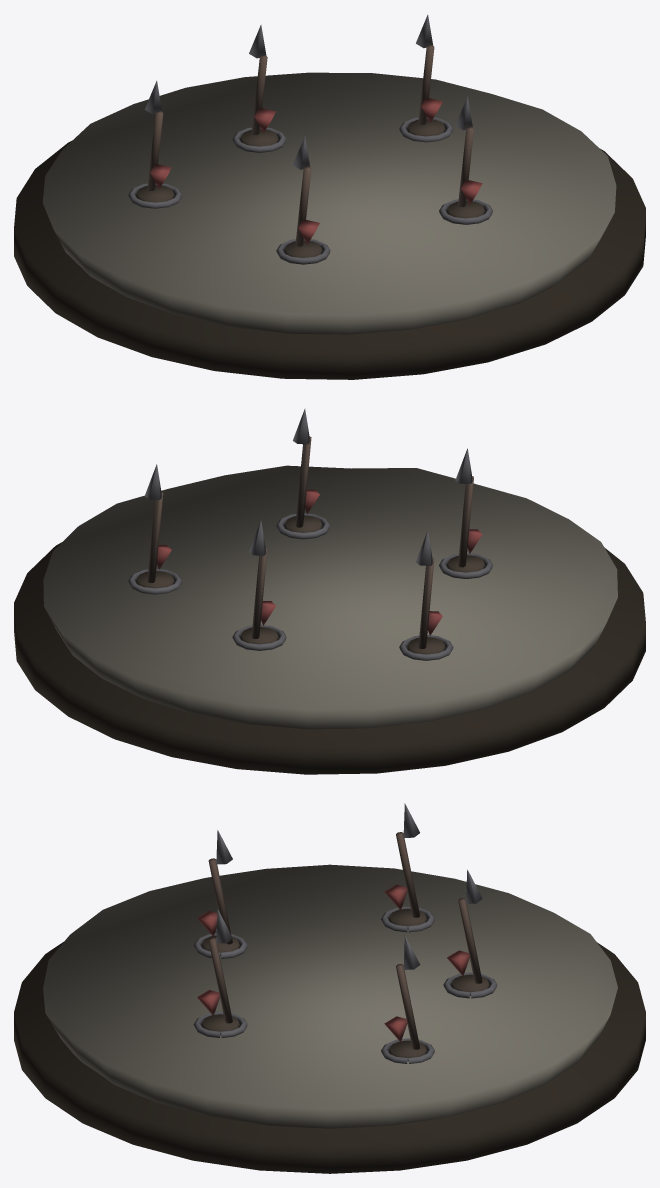
The model's file is kit_trap5.glb.
3 views of the same model, one above another, from view 1: azimuth 30°, elevation 25°; view 2: azimuth 150°, elevation 25°; view 3: azimuth 270°, elevation 25° (orthographic).
Parts seen in each view (by area): view 1: kit_trap5; view 2: kit_trap5; view 3: kit_trap5.
Part boxes in pixels (x1=…): kit_trap5: x1=14, y1=14, x2=645, y2=379; kit_trap5: x1=14, y1=409, x2=645, y2=774; kit_trap5: x1=14, y1=803, x2=645, y2=1173.
Bounding box in the file's own units: 0.81 × 0.2422 × 0.81.
